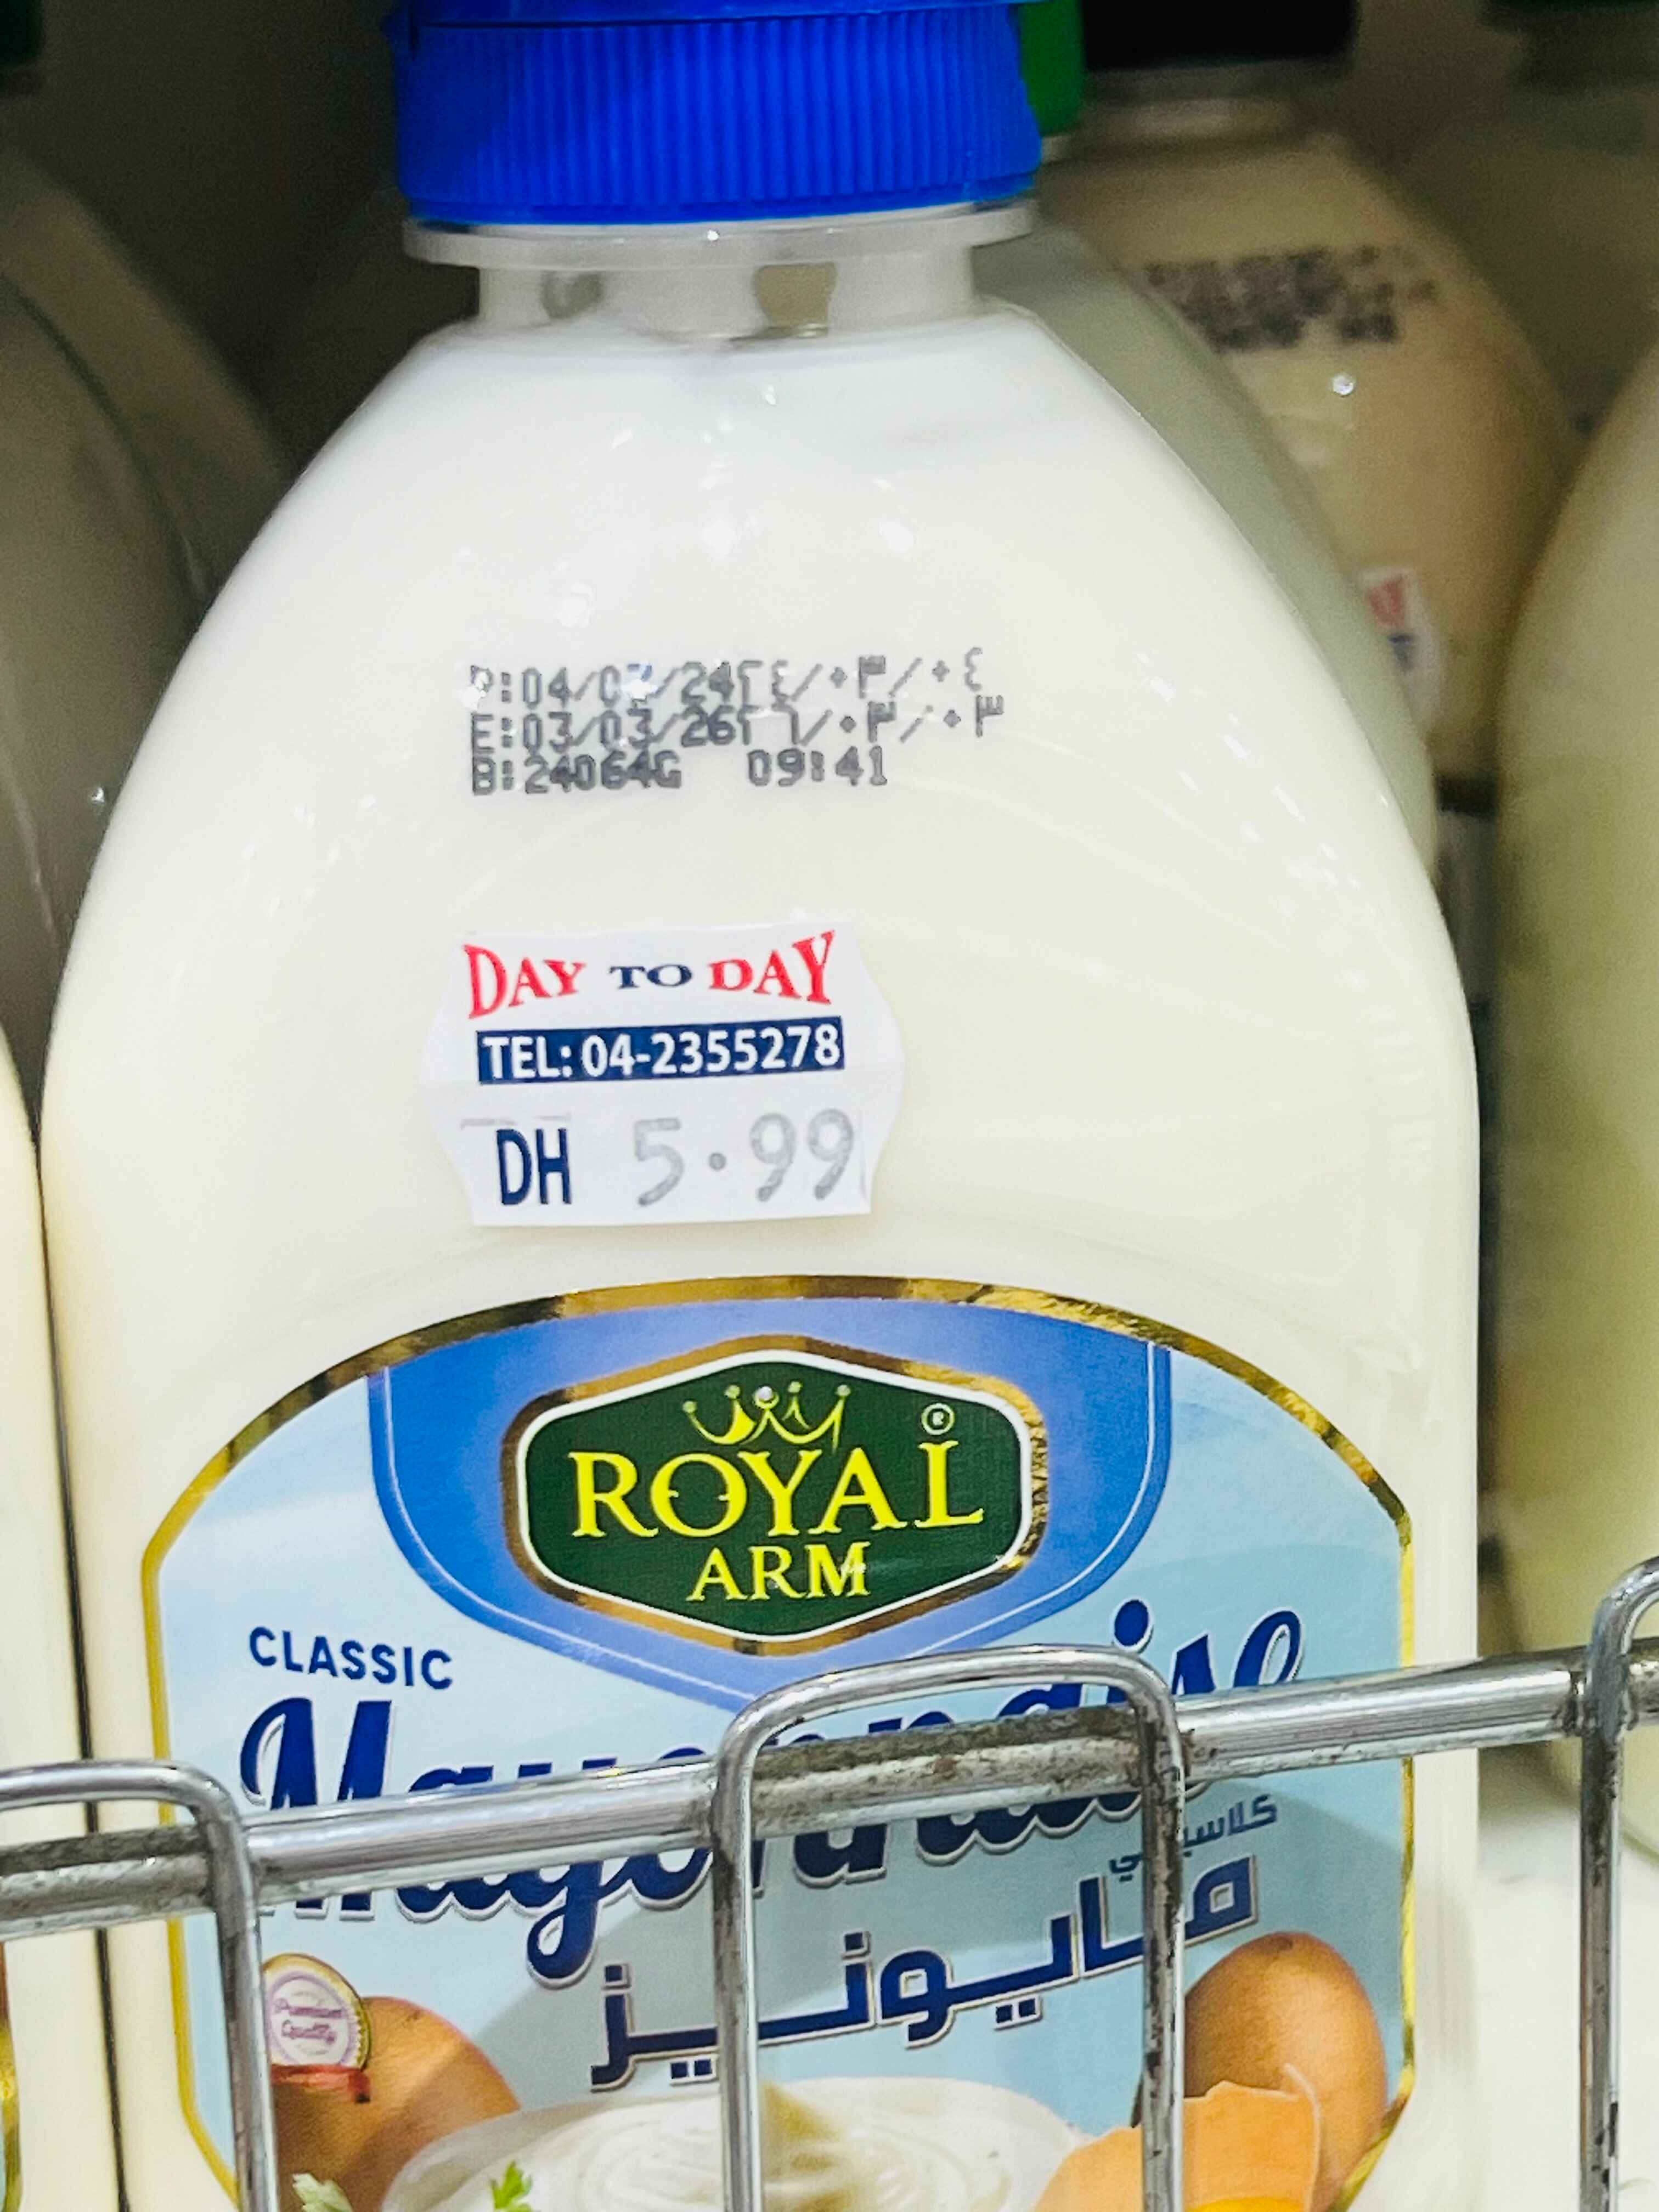PriceTagSmall: (437, 928, 910, 1219)
